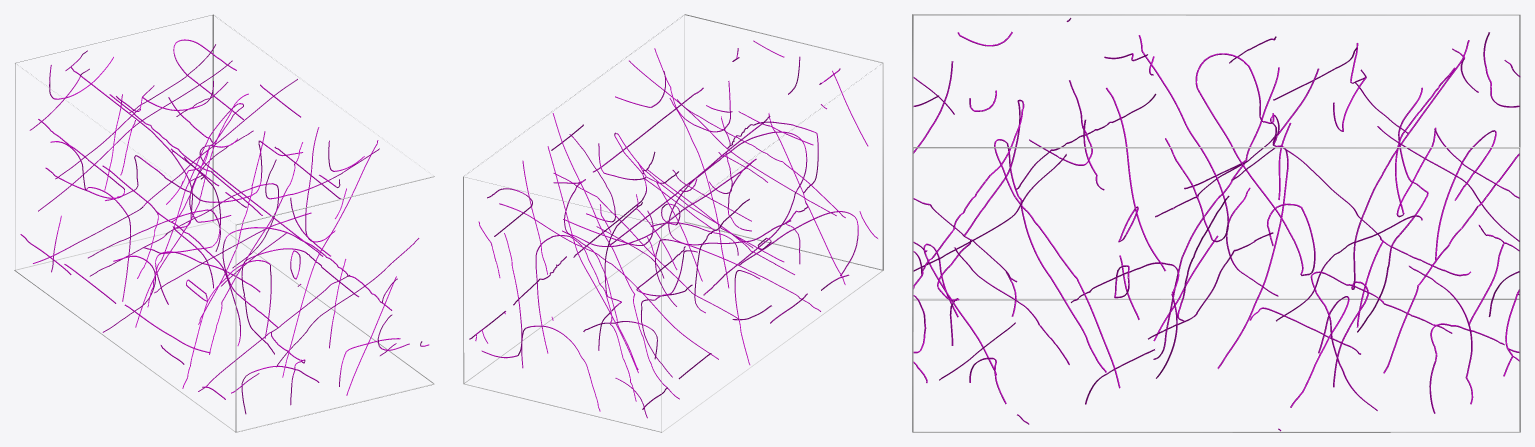
3 renders of one model, left to right at view 1: azimuth 30°, elevation 25°; view 2: azimuth 150°, elevation 25°; view 3: azimuth 270°, elevation 25°, orthographic. The views are drawn at different scales.
Visible parts, largest first — view 1: Shape_IndexedLineSet.001, Shape_IndexedLineSet; view 2: Shape_IndexedLineSet.001, Shape_IndexedLineSet; view 3: Shape_IndexedLineSet.001, Shape_IndexedLineSet.
Boxes of the visible parts, bbox=[...] form: Shape_IndexedLineSet.001: bbox=[20, 39, 429, 414]; Shape_IndexedLineSet: bbox=[14, 14, 434, 432]; Shape_IndexedLineSet.001: bbox=[469, 40, 877, 418]; Shape_IndexedLineSet: bbox=[463, 14, 883, 432]; Shape_IndexedLineSet.001: bbox=[913, 18, 1520, 431]; Shape_IndexedLineSet: bbox=[912, 14, 1520, 432].
Bounding box in the file's own units: 237 × 237 × 457.
